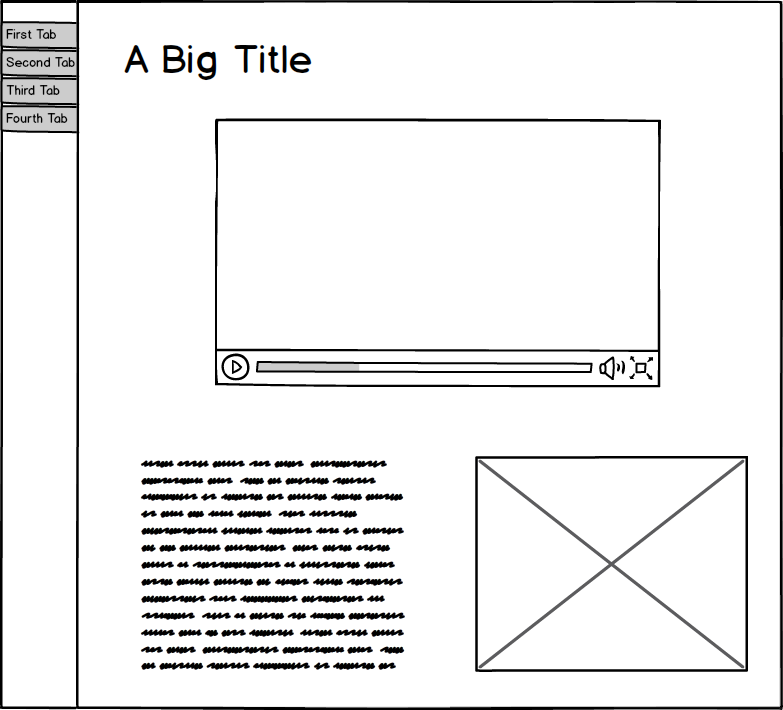h1: (110, 37, 317, 84)
image: (467, 451, 755, 679)
p: (131, 453, 415, 676)
sidebar: (1, 15, 85, 140)
video: (209, 116, 665, 393)
